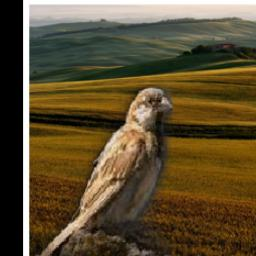Sparrow: (32, 86, 174, 256)
